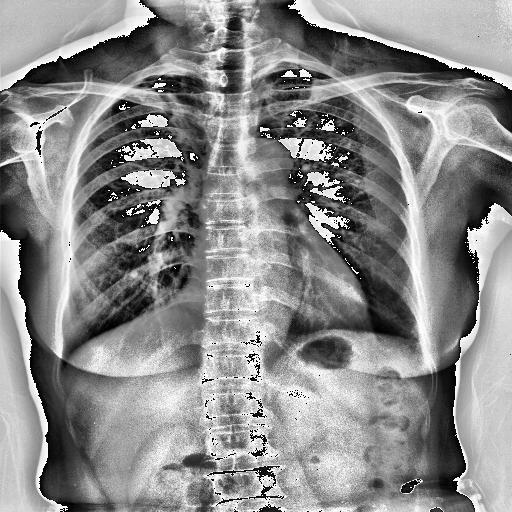0- Aortic enlargement: (236, 136, 296, 184)
10- Pleural effusion: (404, 340, 435, 385)
11- Pleural thickening: (404, 340, 435, 385), (116, 75, 144, 100)
13- Pulmonary fibrosis: (136, 85, 203, 149), (321, 98, 374, 160), (145, 72, 200, 130), (152, 92, 200, 150), (322, 96, 366, 150), (251, 94, 266, 135)
